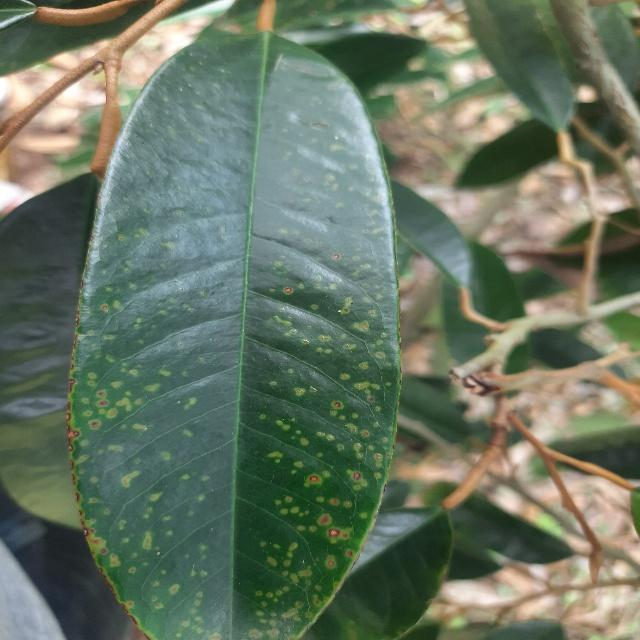Leaf Spot: (63, 15, 409, 640)
